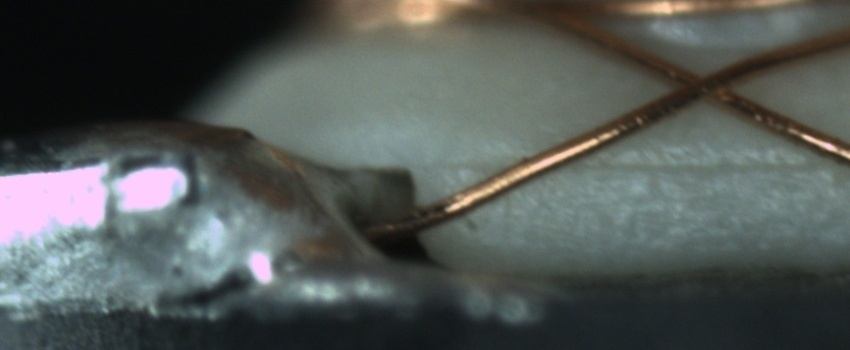CL: (659, 56, 748, 112)
DL: (453, 133, 841, 196)
